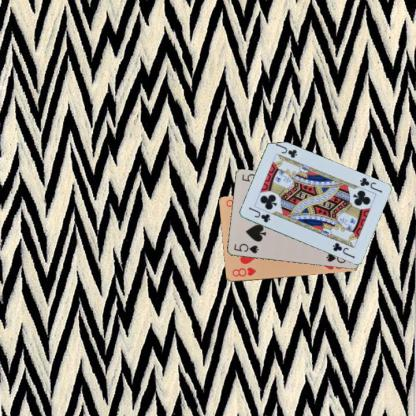5s: (231, 241, 260, 255)
8h: (229, 265, 257, 278)
Jc: (246, 204, 272, 223), (357, 175, 383, 194)
